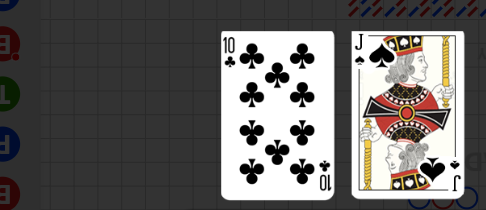10C: (223, 35, 238, 70), (317, 158, 332, 192)
JS: (353, 33, 397, 80), (420, 154, 464, 200)
